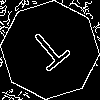T: (25, 25, 78, 80)
